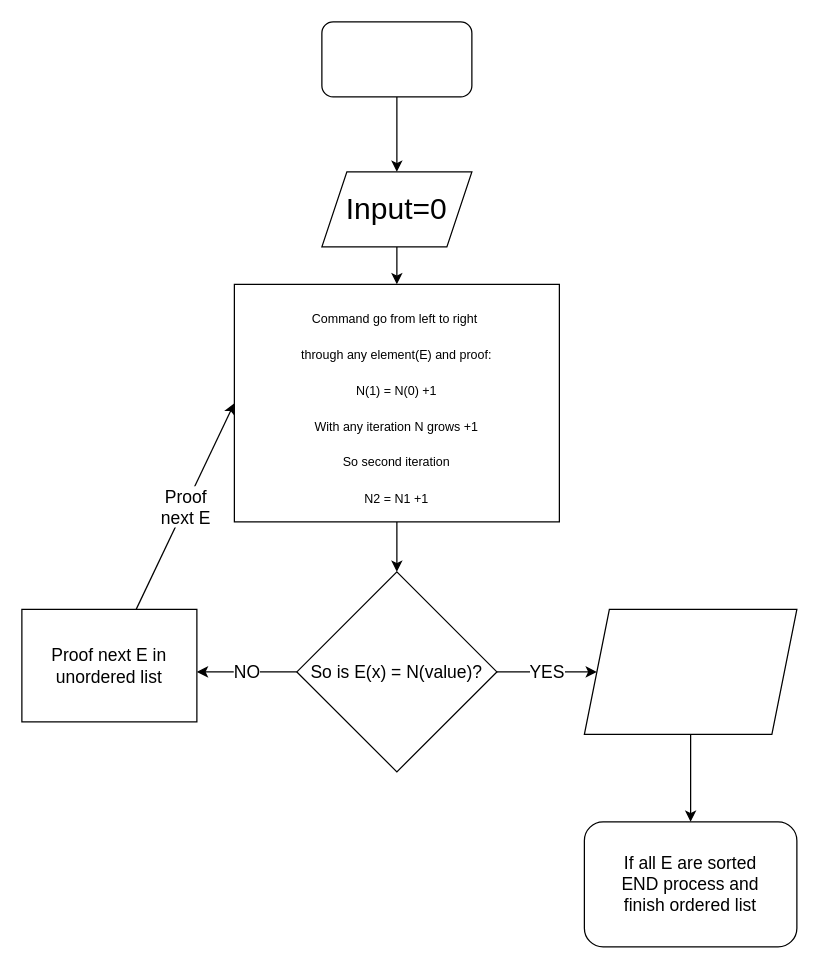
This 819x969 diagram has some shape labels left out. Here are the shapes that lost their labels. From the top down, the box of each, then its label:
(321, 21, 472, 97): Start
(583, 608, 797, 734): Put E in new list from left to right
